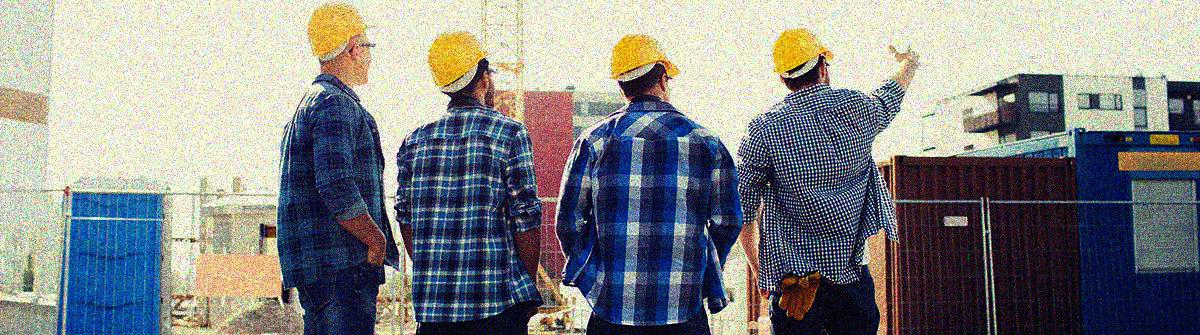helmet: (303, 1, 380, 88), (427, 29, 499, 105), (610, 32, 684, 104), (771, 25, 836, 91)
